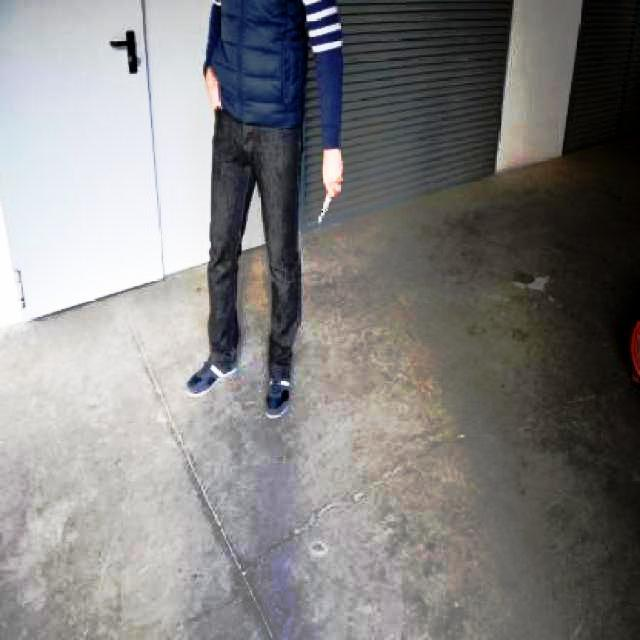Knife: (313, 185, 340, 231)
